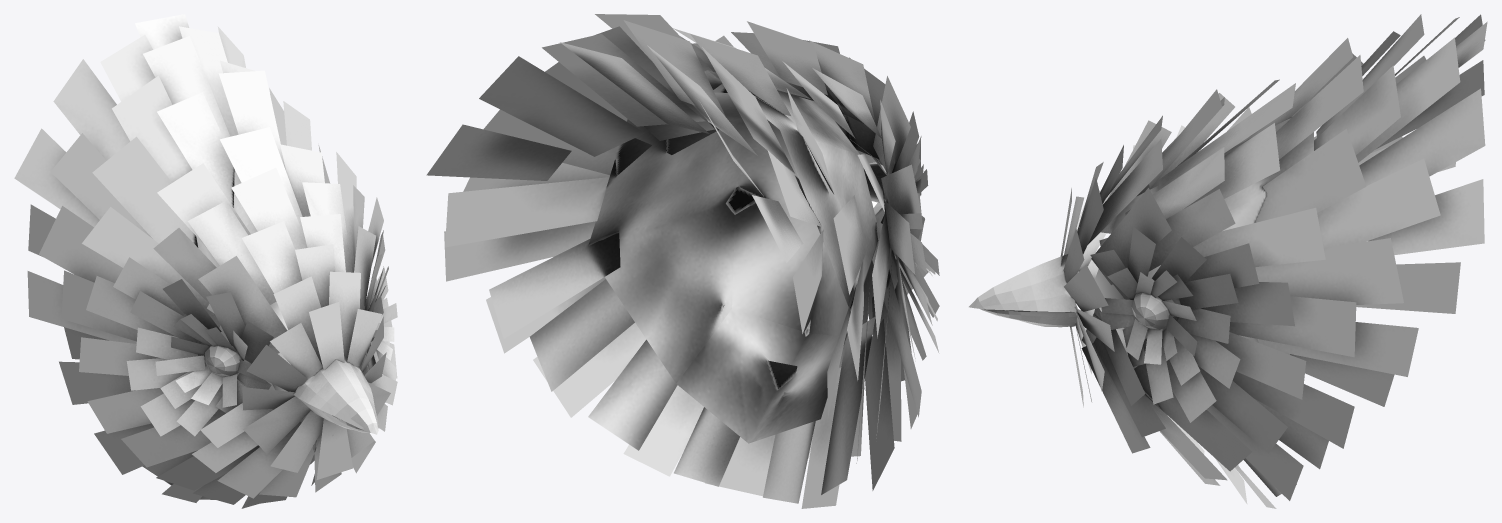
Rendered from Chickadee_frozen_export.fbx.
The picture shows the model from 3 angles, left to right: view 1: azimuth 30°, elevation 25°; view 2: azimuth 150°, elevation 25°; view 3: azimuth 270°, elevation 25°; orthographic projection. The views are drawn at different scales.
Parts seen in each view (by area): view 1: Chickadee_frozen; view 2: Chickadee_frozen; view 3: Chickadee_frozen.
Part boxes in pixels (<box>): Chickadee_frozen: <box>14,14,397,508</box>; Chickadee_frozen: <box>426,14,939,508</box>; Chickadee_frozen: <box>969,14,1487,508</box>.
Size of the model in its own units: 12.19 by 15.45 by 15.76.
